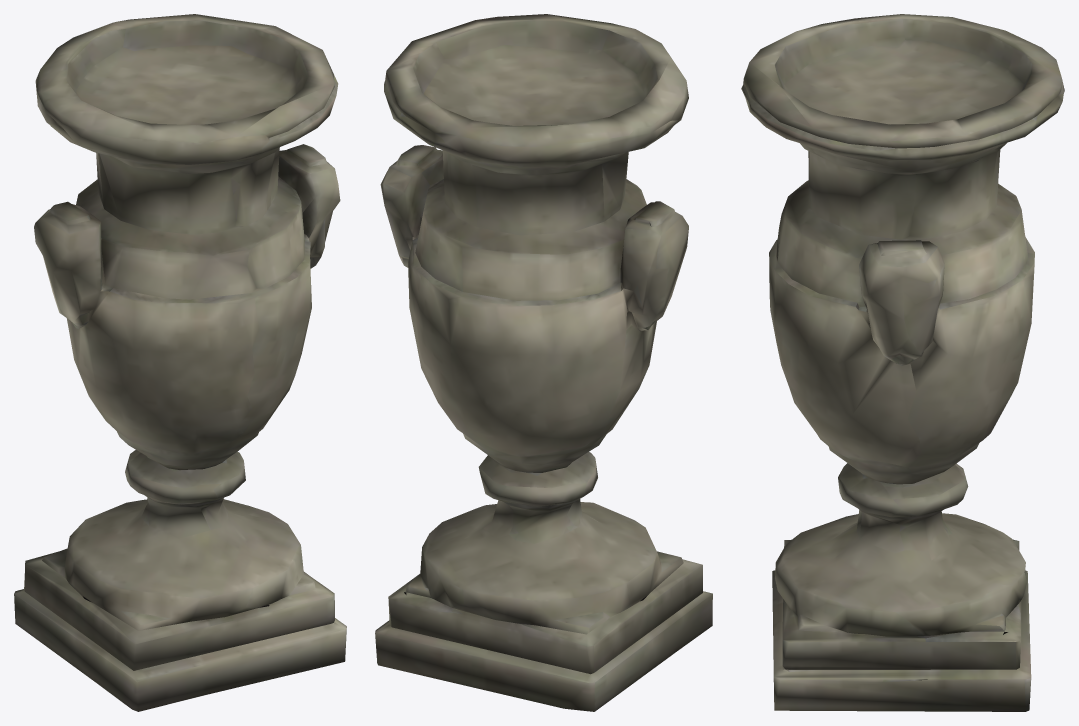
The model's file is ancient-limestone-urn-v001.glb.
3 renders of one model, left to right at view 1: azimuth 30°, elevation 25°; view 2: azimuth 150°, elevation 25°; view 3: azimuth 270°, elevation 25°, orthographic. The views are drawn at different scales.
Visible parts, largest first — view 1: ancient-limestone-urn; view 2: ancient-limestone-urn; view 3: ancient-limestone-urn.
Part boxes in pixels (<box>): ancient-limestone-urn: <box>14,14,346,711</box>; ancient-limestone-urn: <box>375,14,712,711</box>; ancient-limestone-urn: <box>741,14,1064,711</box>.
Size of the model in its own units: 0.3242 by 0.6398 by 0.3155.
1 material, 1 textured.
